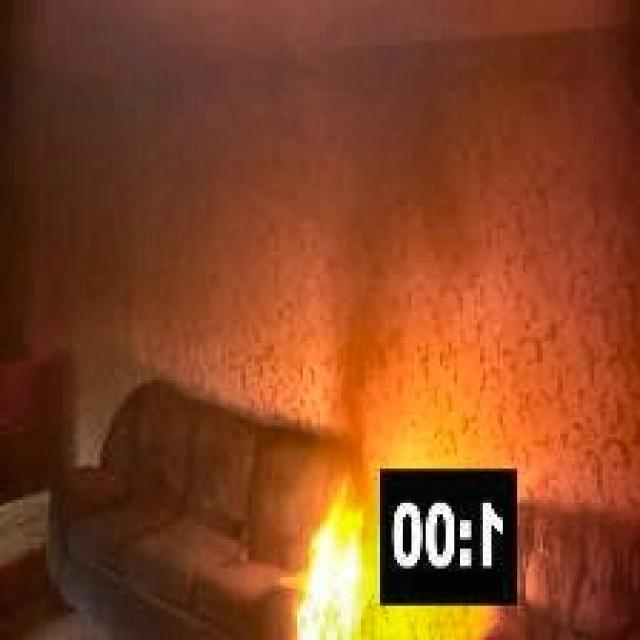fire: (300, 501, 371, 636)
